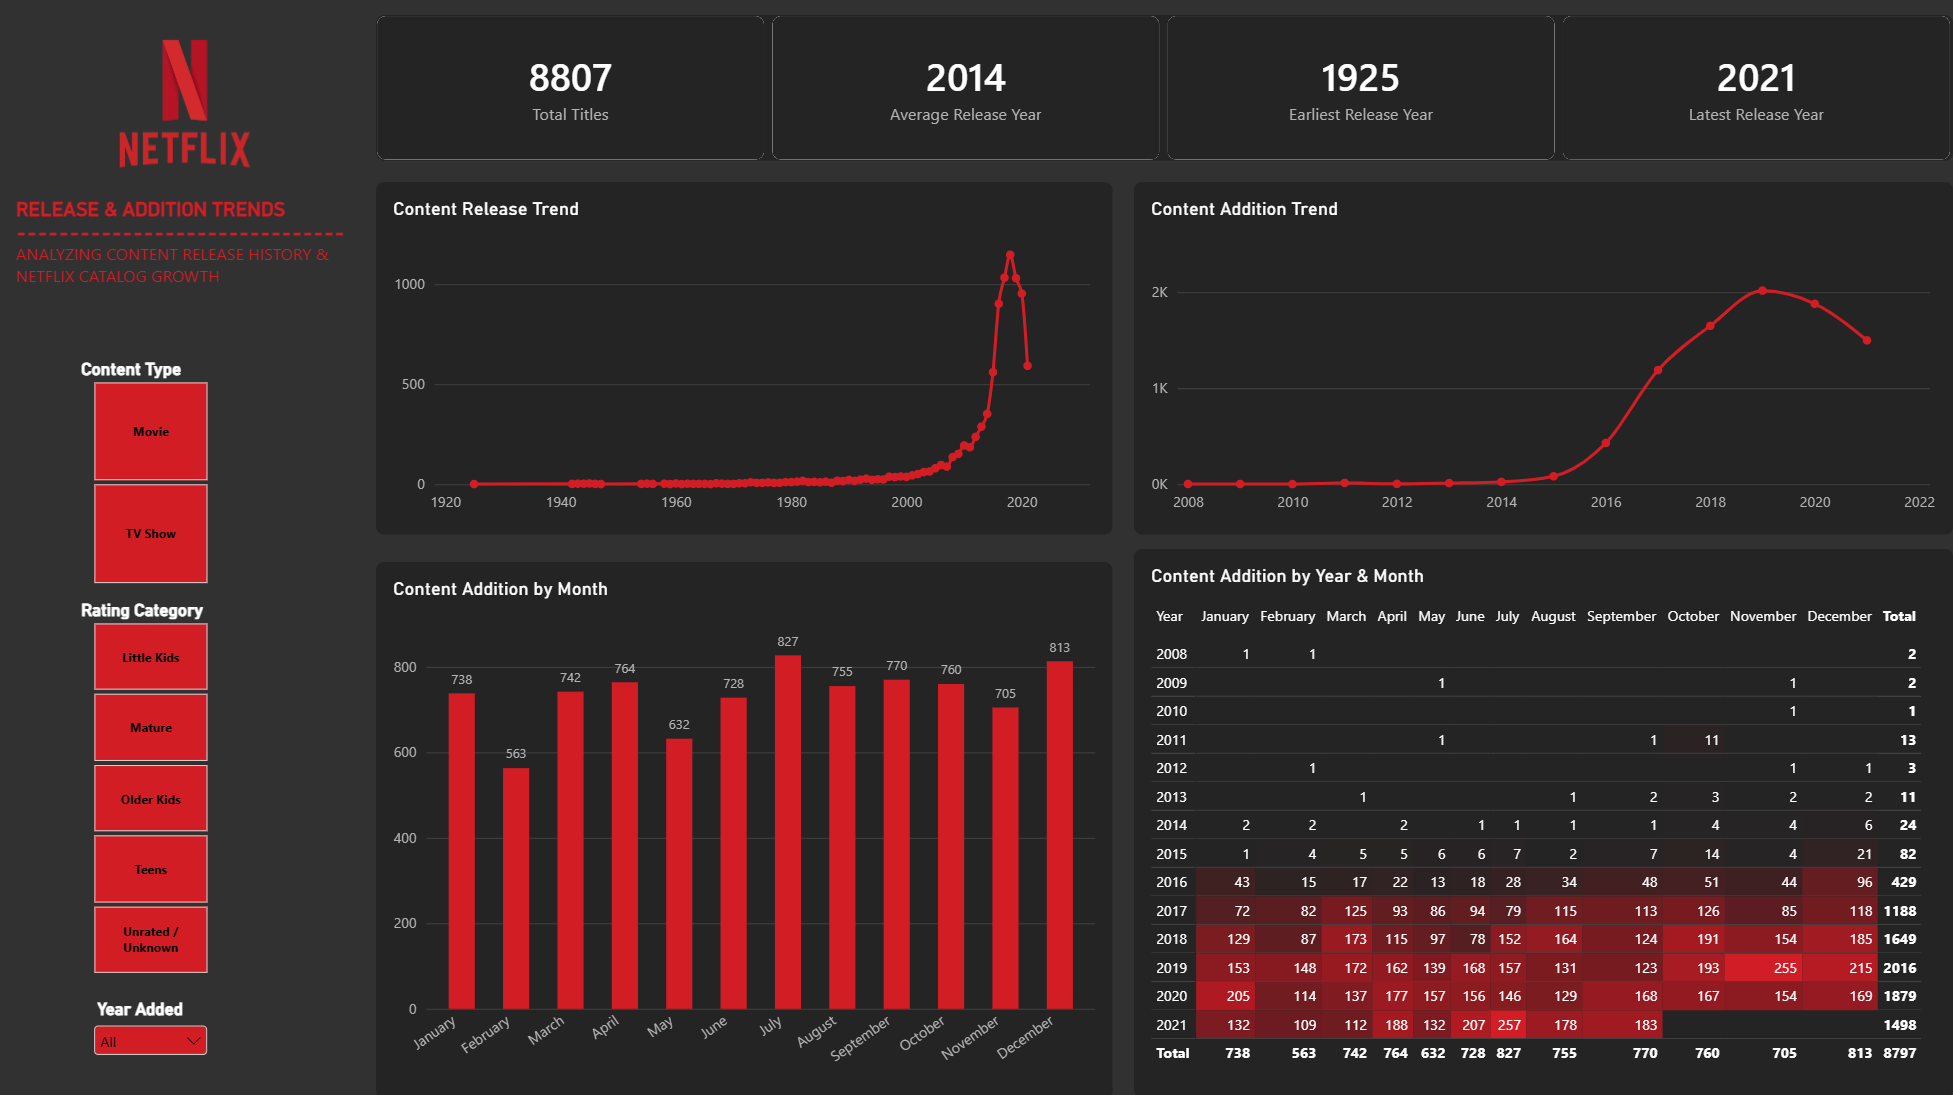

The dashboard page shown, as its layout file describes it:
{"tool":"powerbi","page":{"name":"03 - Release & Addition Trends","canvas":[1920,1080],"ordinal":2},"visuals":[{"type":"cardVisual","fields":{"Data":["data_measures.Total Titles","data_measures.Average Release Year","data_measures.Earliest Release Year","data_measures.Latest Release Year"]},"box":[372.4,17.1,1547.6,143.4],"z":0},{"type":"lineChart","title":"Content Release Trend","fields":{"Category":["netflix_main.release_year"],"Y":["data_measures.Total Titles"]},"box":[372.4,180.9,723.5,345.7],"z":1000},{"type":"lineChart","title":"Content Addition Trend","fields":{"Category":["DimDate.Year"],"Y":["data_measures.Total Content Added"]},"box":[1116.3,180.9,803.7,345.7],"z":2000},{"type":"clusteredColumnChart","title":"Content Addition by Month","fields":{"Category":["DimDate.Month Name"],"Y":["data_measures.Total Content Added"]},"box":[372.4,553.3,723.5,526.6],"z":3000},{"type":"pivotTable","title":"Content Addition by Year & Month","fields":{"Columns":["DimDate.Month Name"],"Rows":["DimDate.Year"],"Values":["data_measures.Total Content Added"]},"box":[1116.3,540.5,803.7,539.4],"z":4000},{"type":"slicer","fields":{"Values":["netflix_main.type"]},"box":[74.9,354.2,150.9,221.5],"z":5000},{"type":"slicer","fields":{"Values":["netflix_main.Rating Category"]},"box":[74.9,590.8,150.9,368.2],"z":6000},{"type":"slicer","fields":{"Values":["DimDate.Year"]},"box":[89.9,982.5,120.9,97.4],"z":7000},{"type":"textbox","box":[18.2,195.9,330.7,142.3],"z":7001},{"type":"image","box":[34.2,11.8,299.7,184.1],"z":7002}]}

Visuals, with their boxes in screenshot pixels (x1, y1, x2, y2), scaled from the page's 1920x1080 canvas onto the 1953x1095 screenshot:
cardVisual - data_measures.Total Titles x data_measures.Average Release Year: 379,17,1952,163
"Content Release Trend" lineChart: 379,183,1115,534
"Content Addition Trend" lineChart: 1135,183,1952,534
"Content Addition by Month" clusteredColumnChart: 379,561,1115,1094
"Content Addition by Year & Month" pivotTable: 1135,548,1952,1094
slicer - netflix_main.type: 76,359,230,584
slicer - netflix_main.Rating Category: 76,599,230,972
slicer - DimDate.Year: 91,996,214,1094
textbox: 19,199,355,343
image: 35,12,340,199
